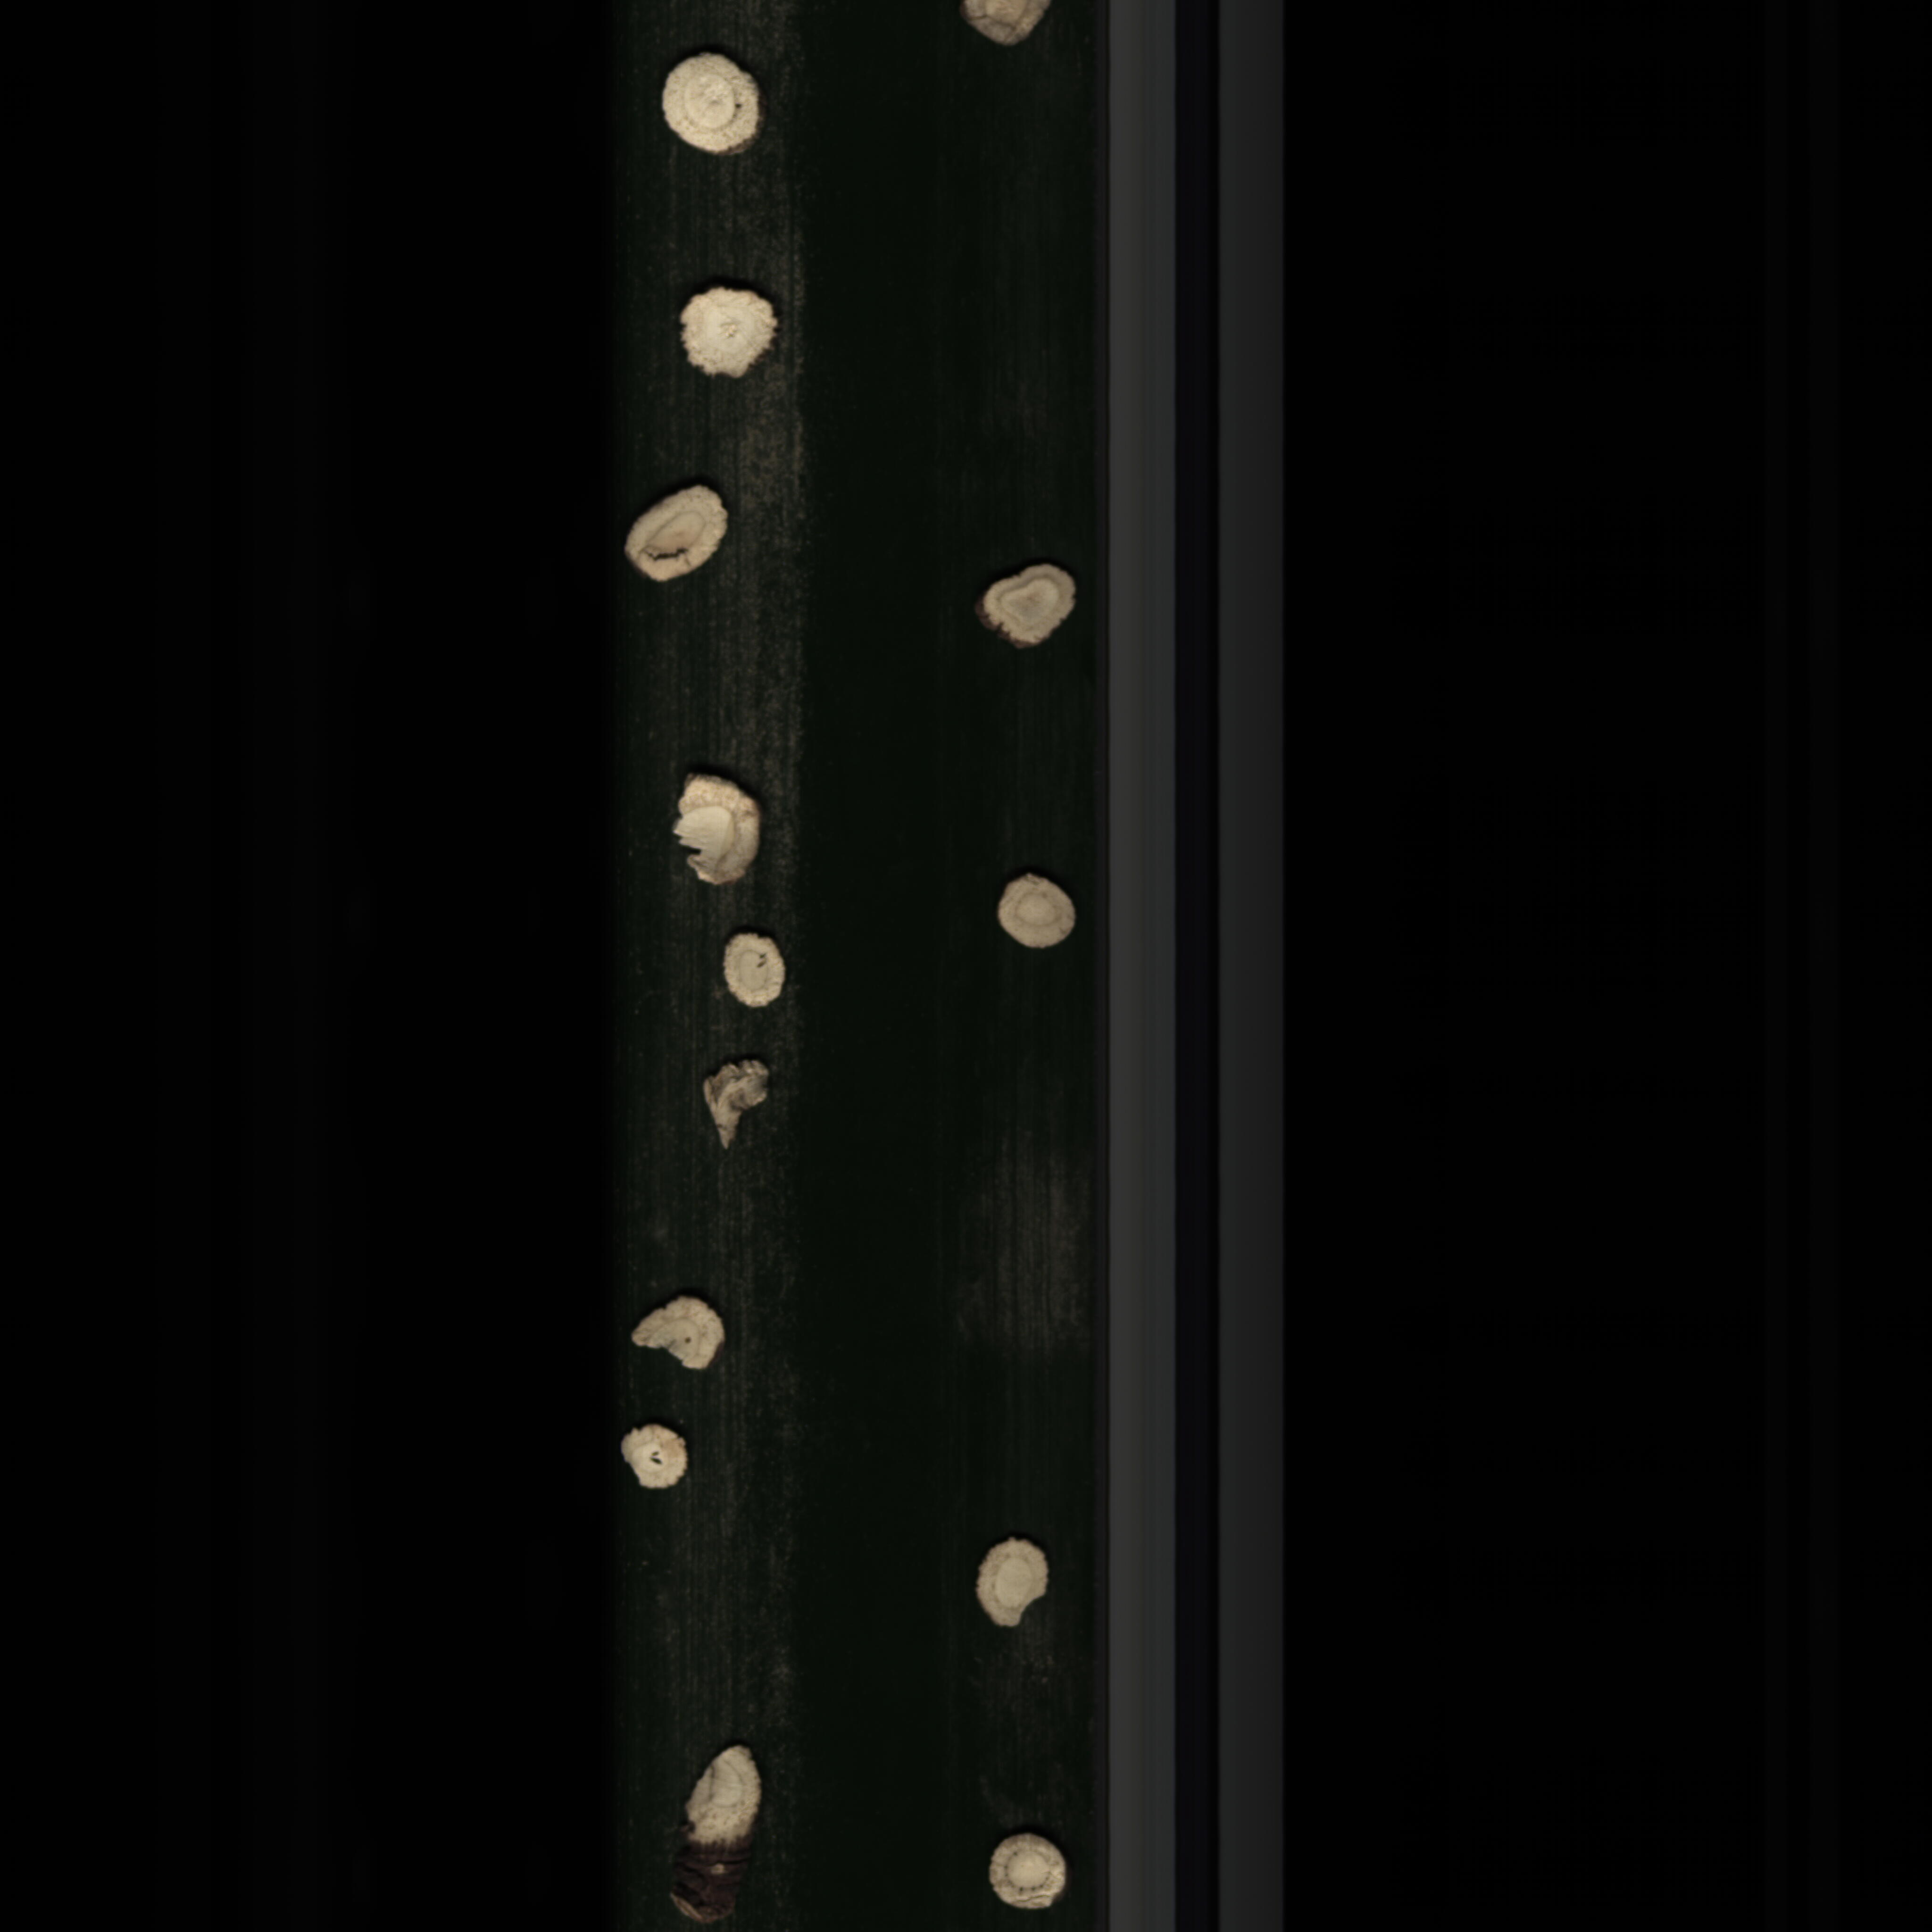bark: (692, 1047, 780, 1155)
debris: (663, 763, 773, 892)
hole: (610, 478, 732, 594)
